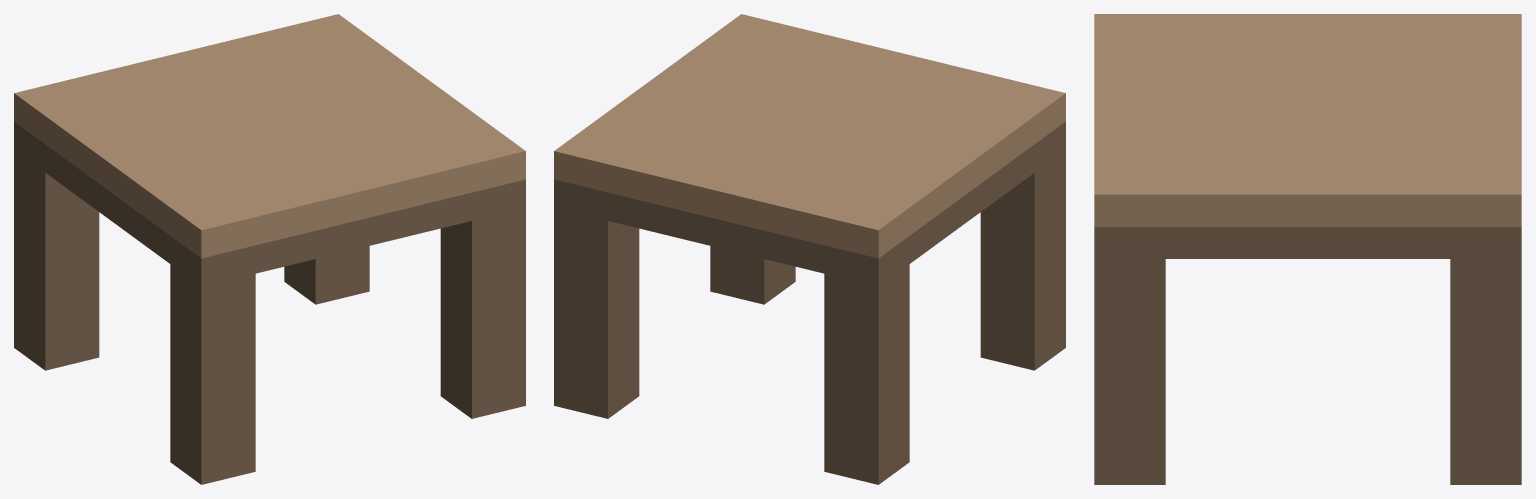
The model's file is mesa_guarnicionero_cuero_01.glb.
3 renders of one model, left to right at view 1: azimuth 30°, elevation 25°; view 2: azimuth 150°, elevation 25°; view 3: azimuth 270°, elevation 25°, orthographic. The views are drawn at different scales.
Visible parts, largest first — view 1: mesa_guarnicionero_cuero; view 2: mesa_guarnicionero_cuero; view 3: mesa_guarnicionero_cuero.
Part boxes in pixels (x1,y1,x2,y2): mesa_guarnicionero_cuero: (14, 14, 525, 484); mesa_guarnicionero_cuero: (554, 14, 1065, 484); mesa_guarnicionero_cuero: (1094, 14, 1521, 484).
Size of the model in its own units: 1 by 0.75 by 1.
